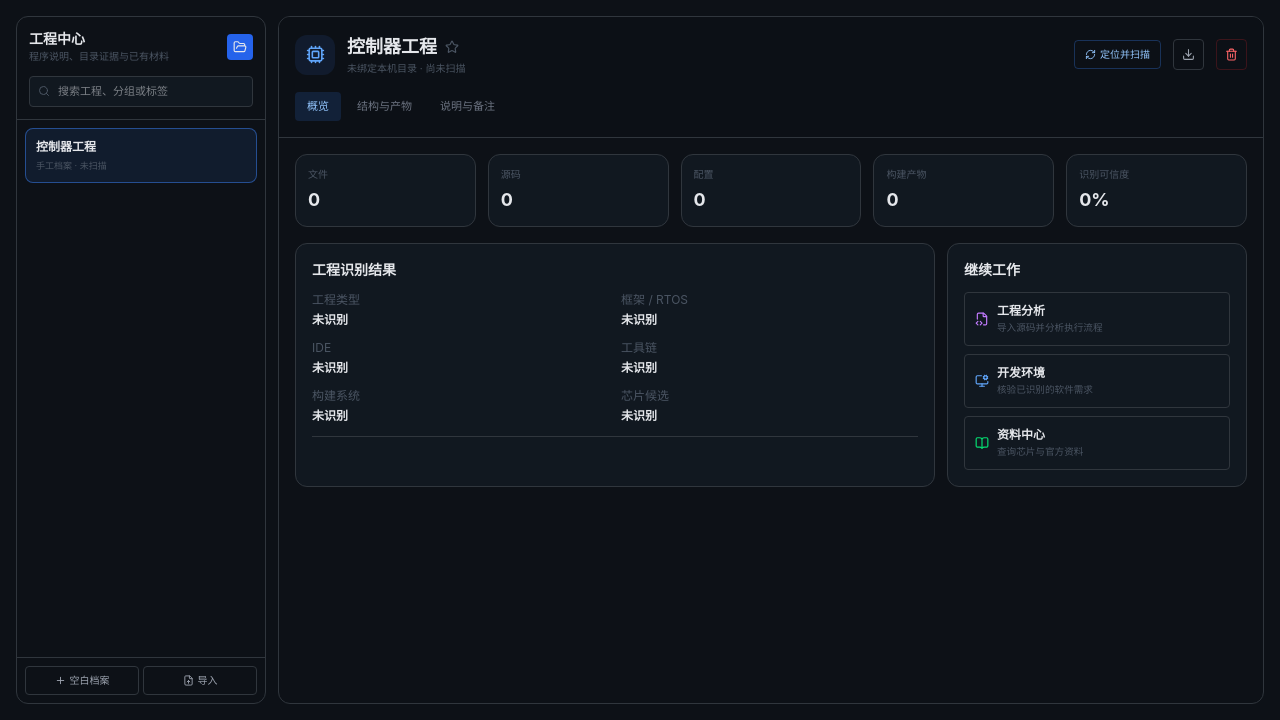
Test case: EngineeringProjectsPage › shows project recognition as the primary workspace and keeps descriptive fields in details
The width and height of the screenshot is (1280, 720).
Expected: the text "控制器工程" is shown 2 times, [36,138,96,154]; [347,33,437,61]
Expected: the heading "工程识别结果" is shown, [312,260,396,278]
What coordinates should you click on to do the following:
click the button "说明与备注"
I would click on:
 (468, 106)
Its box is [428,92,507,120].
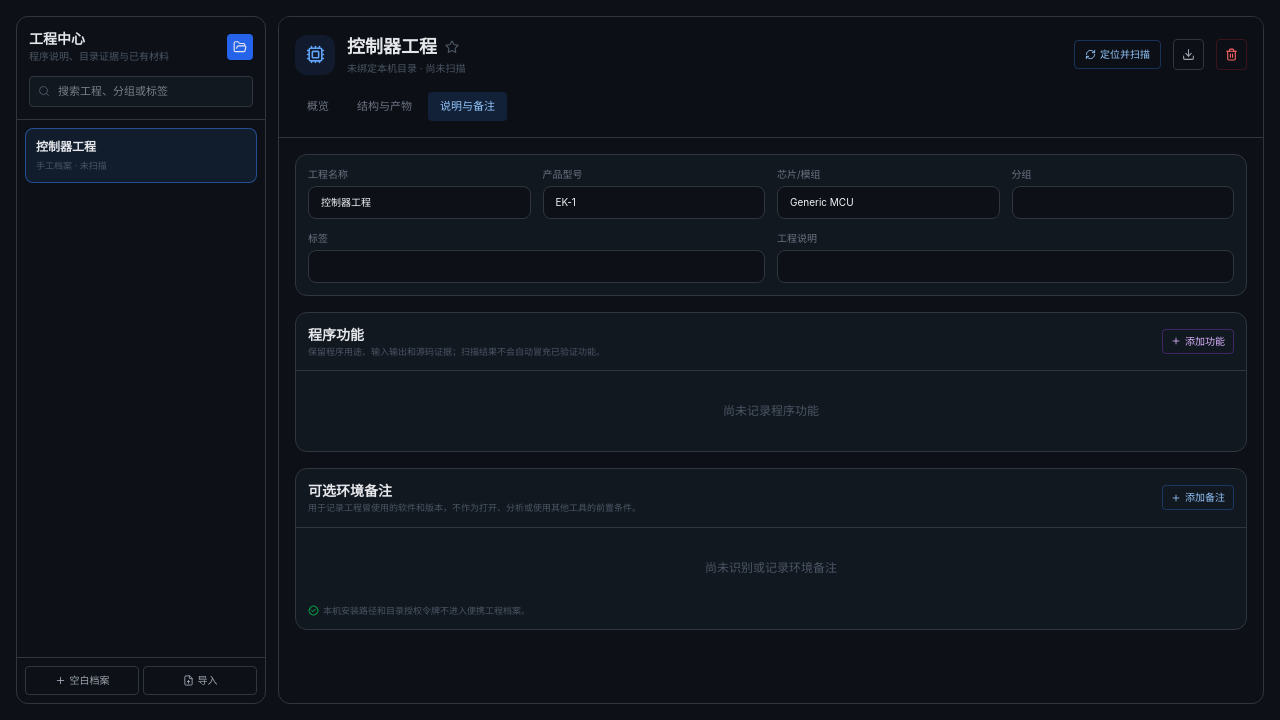
Result: the field showing "控制器工程" is shown at [308,186,530,218]
Result: the heading "程序功能" is shown at [308,326,364,342]
Result: the heading "可选环境备注" is shown at [308,482,392,499]
